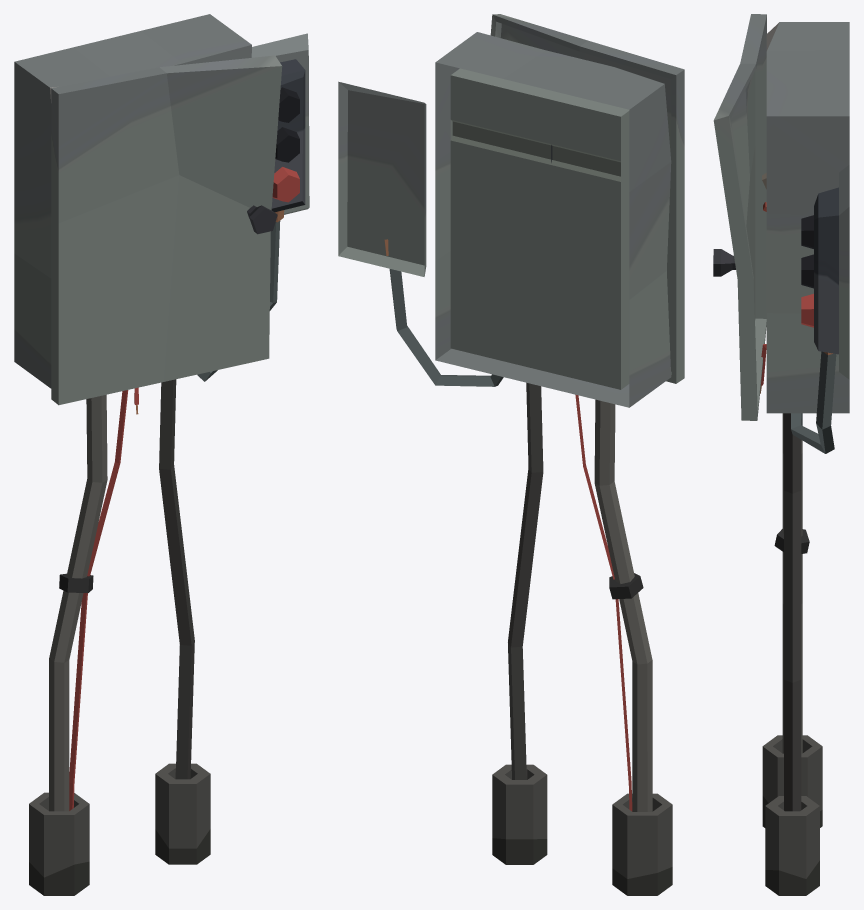
The model's file is SM_Switch_Box.fbx.
3 renders of one model, left to right at view 1: azimuth 30°, elevation 25°; view 2: azimuth 150°, elevation 25°; view 3: azimuth 270°, elevation 25°, orthographic.
Visible parts, largest first — view 1: SM_Switch_Box_Door, SM_Switch_Box; view 2: SM_Switch_Box, SM_Switch_Box_Door; view 3: SM_Switch_Box, SM_Switch_Box_Door.
Boxes of the visible parts, box(x1,y1,x2,y2) form: SM_Switch_Box_Door: box(51, 55, 282, 405); SM_Switch_Box: box(14, 14, 309, 895); SM_Switch_Box: box(338, 32, 672, 895); SM_Switch_Box_Door: box(490, 14, 684, 383); SM_Switch_Box: box(760, 22, 849, 895); SM_Switch_Box_Door: box(713, 14, 766, 420).
Bounding box in the file's own units: 71.72 × 185 × 28.59.
